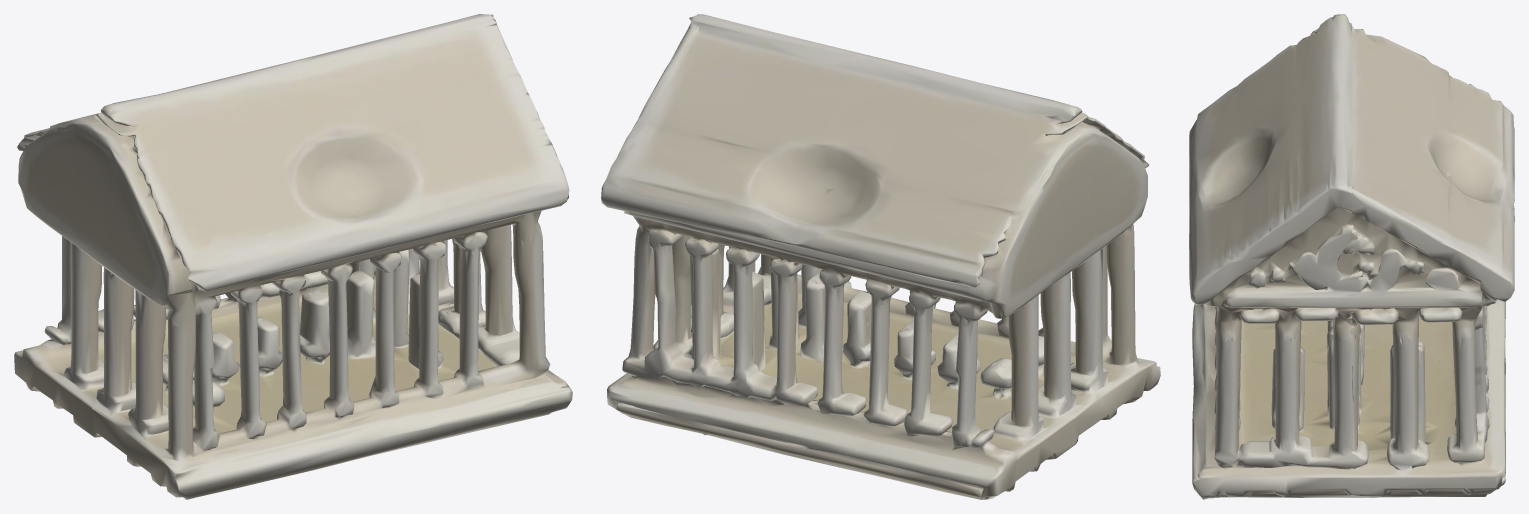
The model's file is citizenCenter.fbx.
The picture shows the model from 3 angles, left to right: view 1: azimuth 30°, elevation 25°; view 2: azimuth 150°, elevation 25°; view 3: azimuth 270°, elevation 25°; orthographic projection. The views are drawn at different scales.
Parts seen in each view (by area): view 1: tripo_node_e3519e63-0726-4a46-ad5f-0f77ddf36a40; view 2: tripo_node_e3519e63-0726-4a46-ad5f-0f77ddf36a40; view 3: tripo_node_e3519e63-0726-4a46-ad5f-0f77ddf36a40.
Part boxes in pixels (bbox=[...]): tripo_node_e3519e63-0726-4a46-ad5f-0f77ddf36a40: bbox=[14, 14, 572, 499]; tripo_node_e3519e63-0726-4a46-ad5f-0f77ddf36a40: bbox=[601, 14, 1160, 499]; tripo_node_e3519e63-0726-4a46-ad5f-0f77ddf36a40: bbox=[1189, 14, 1514, 499].
Bounding box in the file's own units: 97.92 × 81.44 × 75.61.
1 material, 1 textured.
